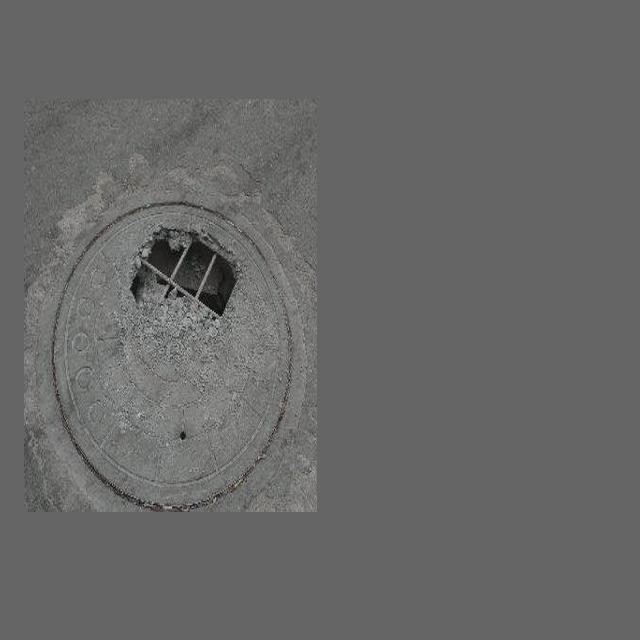broke: (51, 201, 302, 509)
